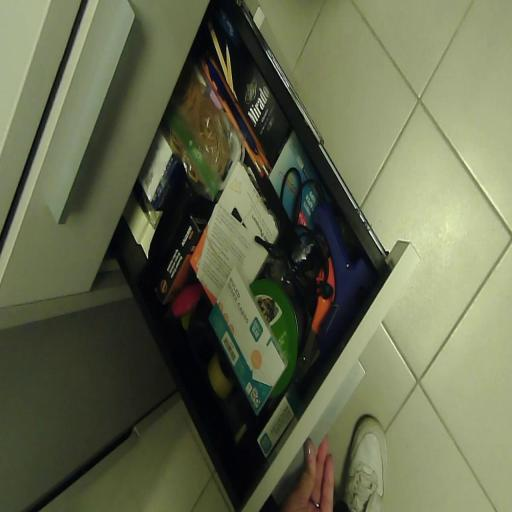pen: (201, 60, 266, 176)
